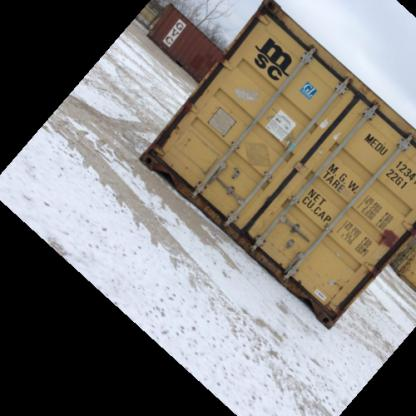Damage: (243, 223, 291, 280), (238, 0, 291, 44), (136, 117, 186, 163), (303, 290, 345, 327), (364, 225, 406, 257)
